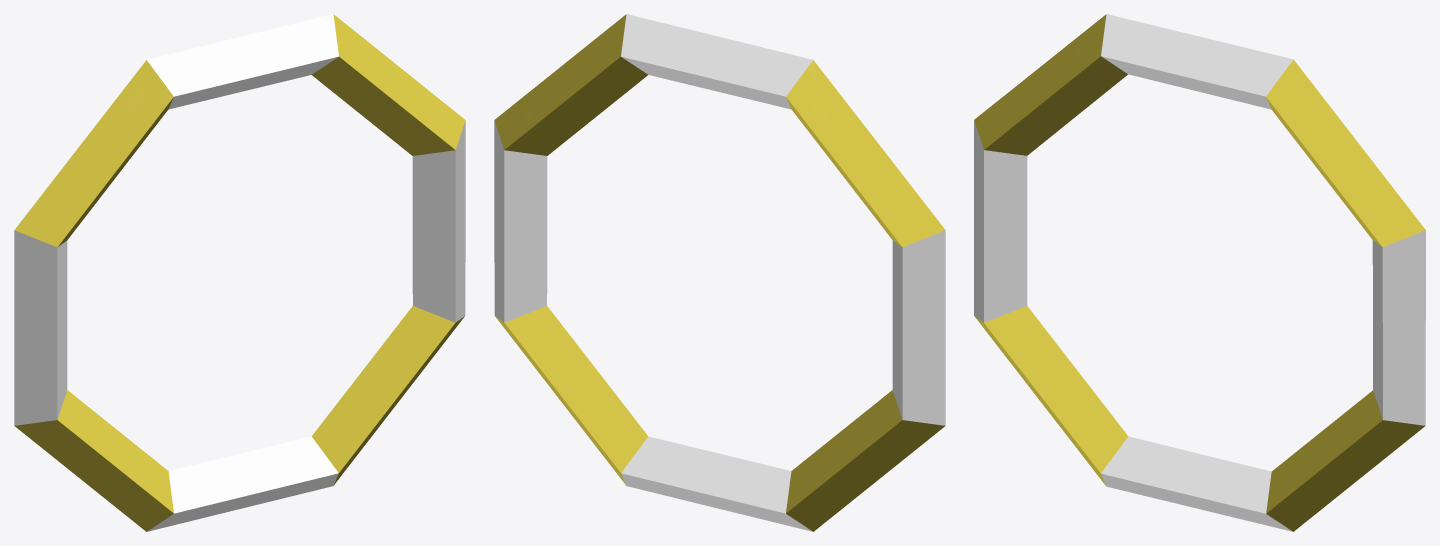
The model's file is wisp_core_ring_1.obj.
The picture shows the model from 3 angles, left to right: view 1: azimuth 30°, elevation 25°; view 2: azimuth 150°, elevation 25°; view 3: azimuth 330°, elevation 25°; orthographic projection.
Parts seen in each view (by area): view 1: Torus.001; view 2: Torus.001; view 3: Torus.001.
Part boxes in pixels (x1,y1,x2,y2): Torus.001: (14,14,465,531); Torus.001: (494,14,945,531); Torus.001: (974,14,1425,531).
Bounding box in the file's own units: 1.57 × 1.57 × 0.2.
